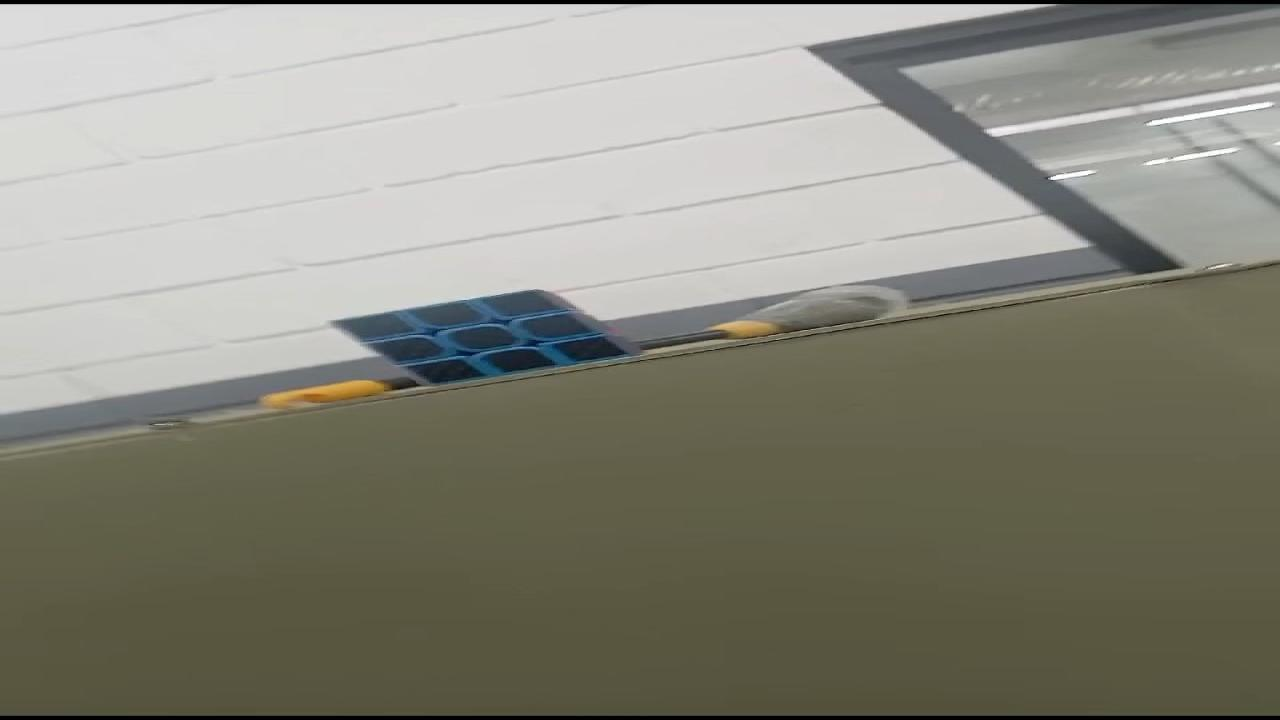Cube: (325, 287, 643, 386)
